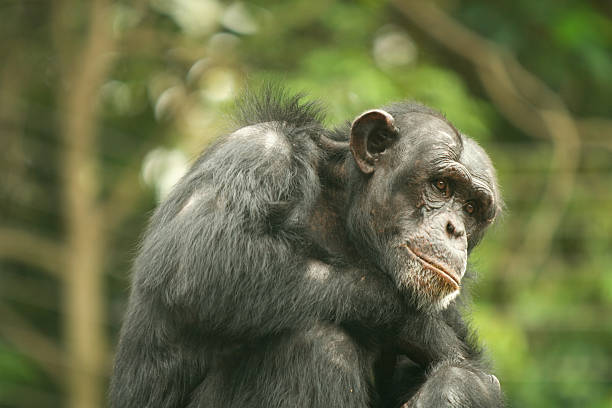chimpanzee: (333, 82, 517, 351)
